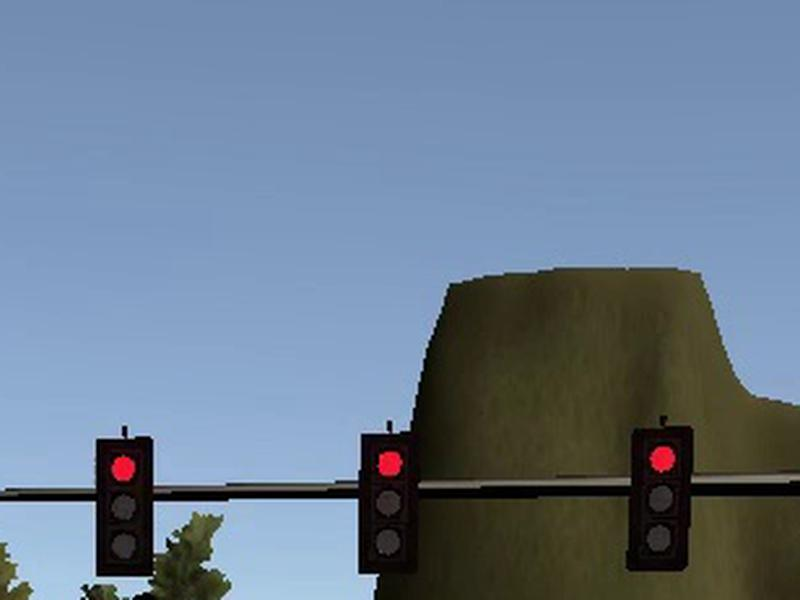Red: (626, 425, 693, 572), (359, 433, 421, 574), (96, 438, 154, 577)
